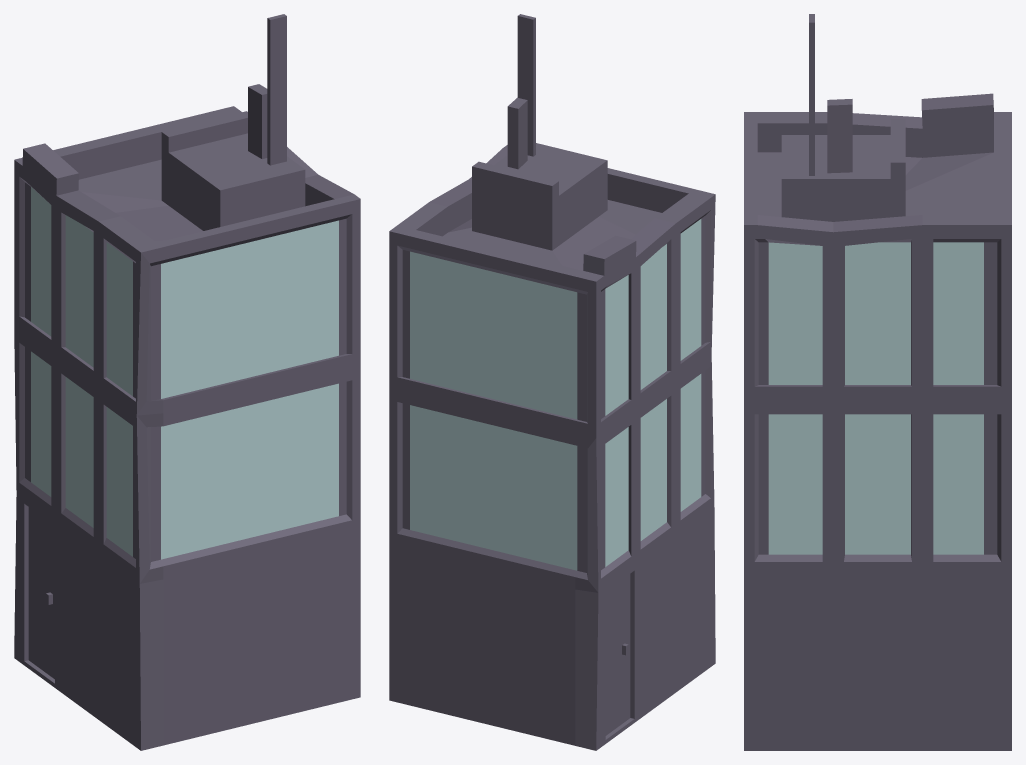
File: skyscraper2 1.fbx
The picture shows the model from 3 angles, left to right: view 1: azimuth 30°, elevation 25°; view 2: azimuth 150°, elevation 25°; view 3: azimuth 270°, elevation 25°; orthographic projection. The views are drawn at different scales.
Parts seen in each view (by area): view 1: Building_1; view 2: Building_1; view 3: Building_1.
Part boxes in pixels (x1=…): Building_1: x1=14, y1=14, x2=360, y2=750; Building_1: x1=389, y1=14, x2=715, y2=750; Building_1: x1=744, y1=14, x2=1011, y2=750.
Size of the model in its own units: 200 by 582 by 200.
